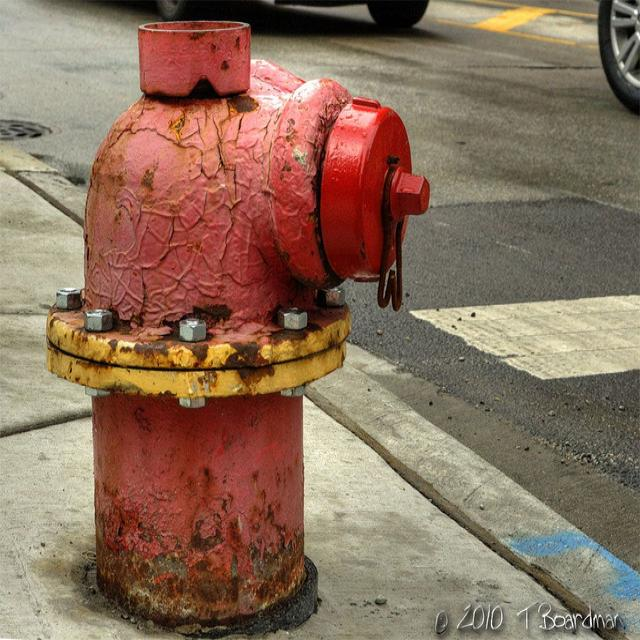Vehicle: (137, 0, 434, 33), (598, 0, 640, 118)
